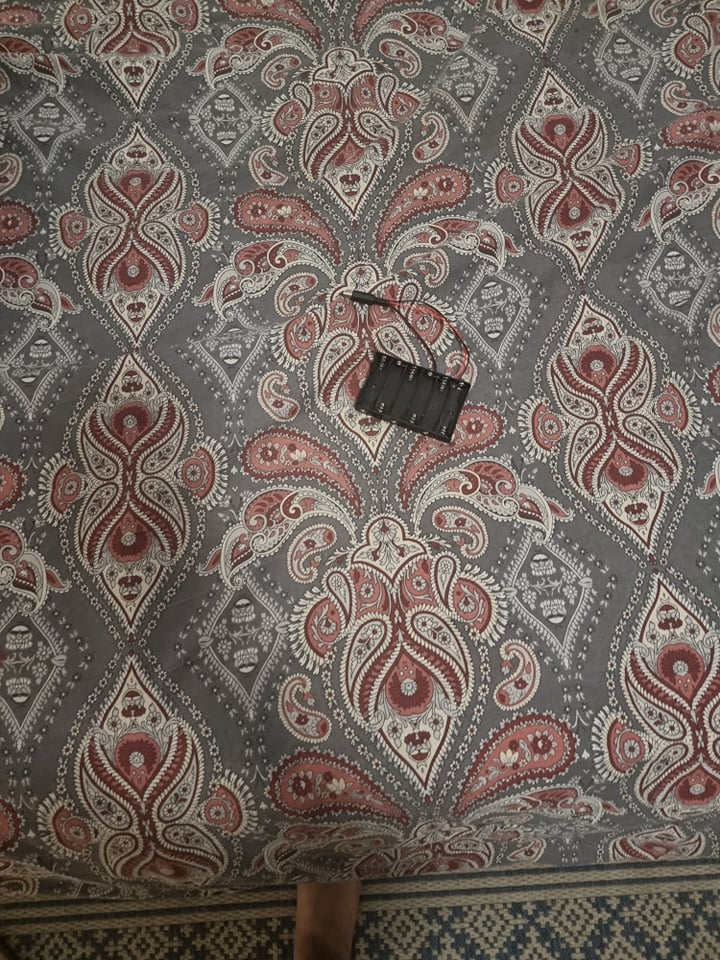BATTERY BOX: (353, 344, 471, 447)
